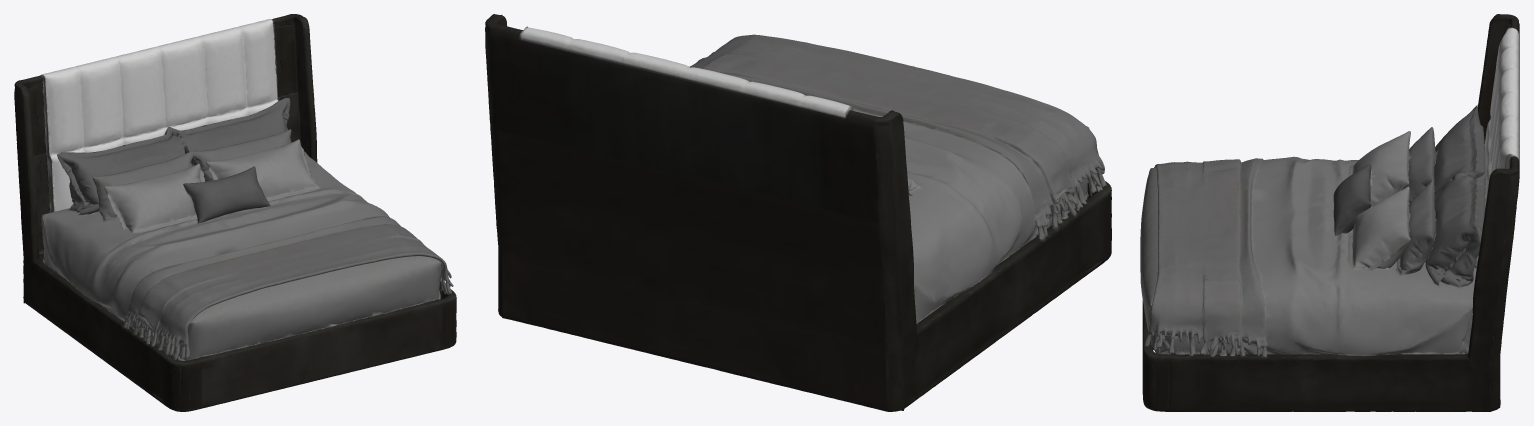
Rendered from bed.glb.
The picture shows the model from 3 angles, left to right: view 1: azimuth 30°, elevation 25°; view 2: azimuth 150°, elevation 25°; view 3: azimuth 270°, elevation 25°; orthographic projection. The views are drawn at different scales.
Visible parts, largest first — view 1: geometry_0; view 2: geometry_0; view 3: geometry_0.
Part boxes in pixels (box(x1,y1,x2,y2)): geometry_0: box(14, 14, 456, 411); geometry_0: box(485, 14, 1111, 411); geometry_0: box(1140, 14, 1519, 411).
Bounding box in the file's own units: 0.9863 × 0.7098 × 0.9964.
Materials: 1 (1 with a texture image).
